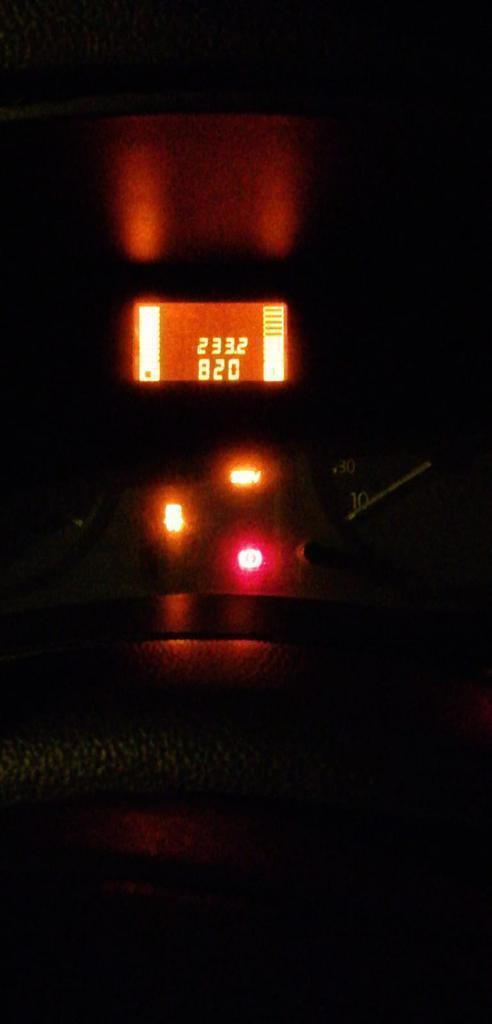,: (233, 350, 237, 354)
0: (227, 358, 239, 381)
2: (212, 358, 225, 381), (196, 337, 208, 355), (236, 337, 248, 354)
3: (210, 337, 221, 355), (223, 337, 234, 355)
8: (197, 358, 210, 380)
odometer: (130, 299, 290, 384)
